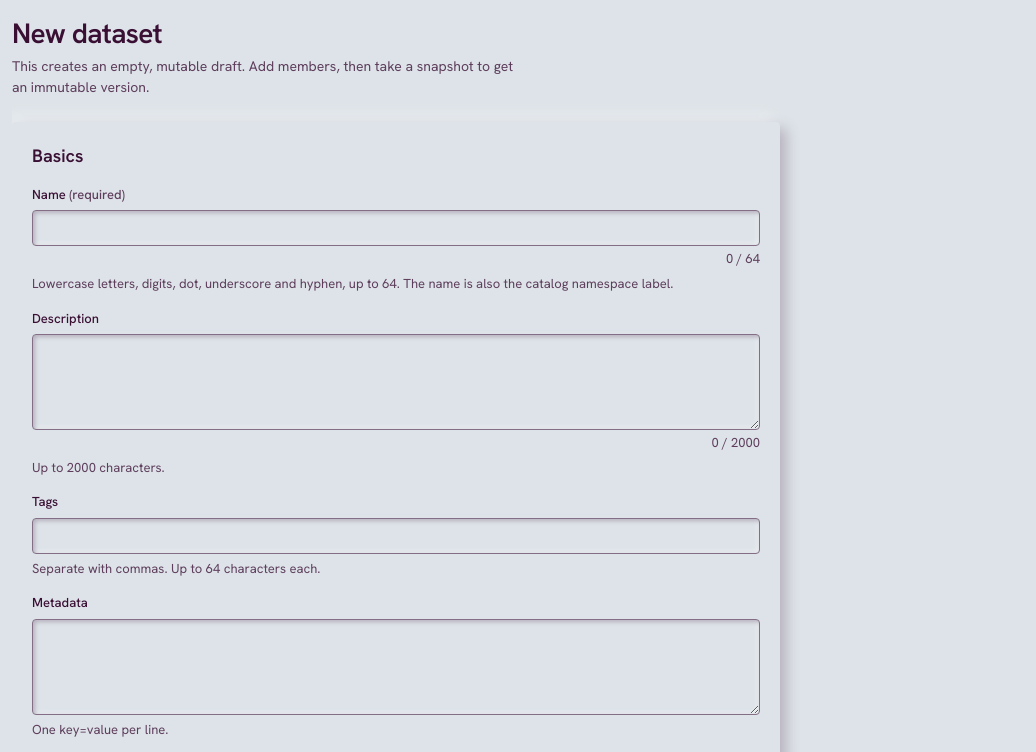
Test case: CreateDatasetForm › explains an idempotency conflict
The image size is (1036, 752).
Type "pets" into the field labelled "Name (required)".
click(396, 228); type("pets")  # box [32,210,760,246]
(page scrolled)
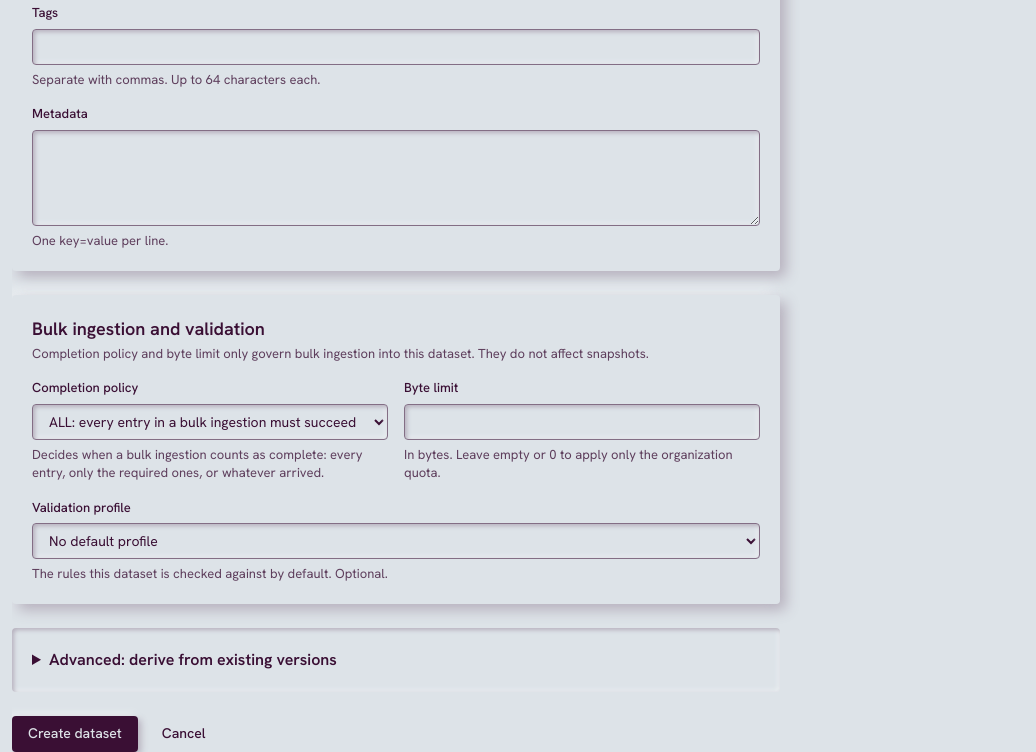
Click the button "Create dataset".
click(75, 734)  # box [12,716,138,751]
(page scrolled)
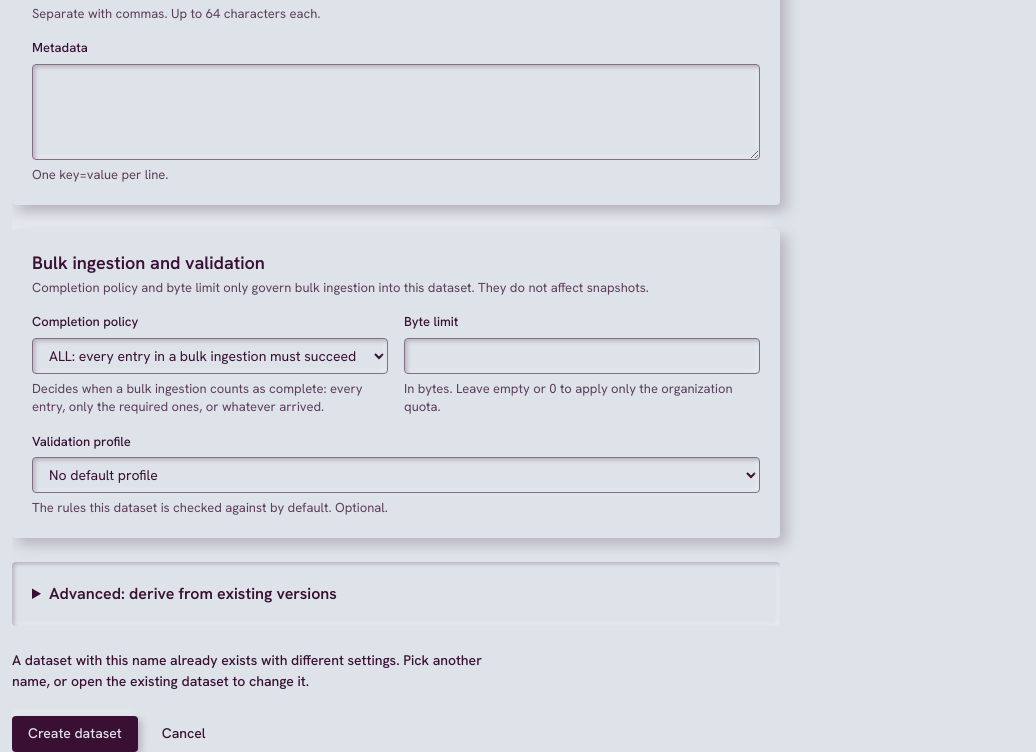
Check: the text "already exists with different settings" is shown, box [12,651,482,690]
